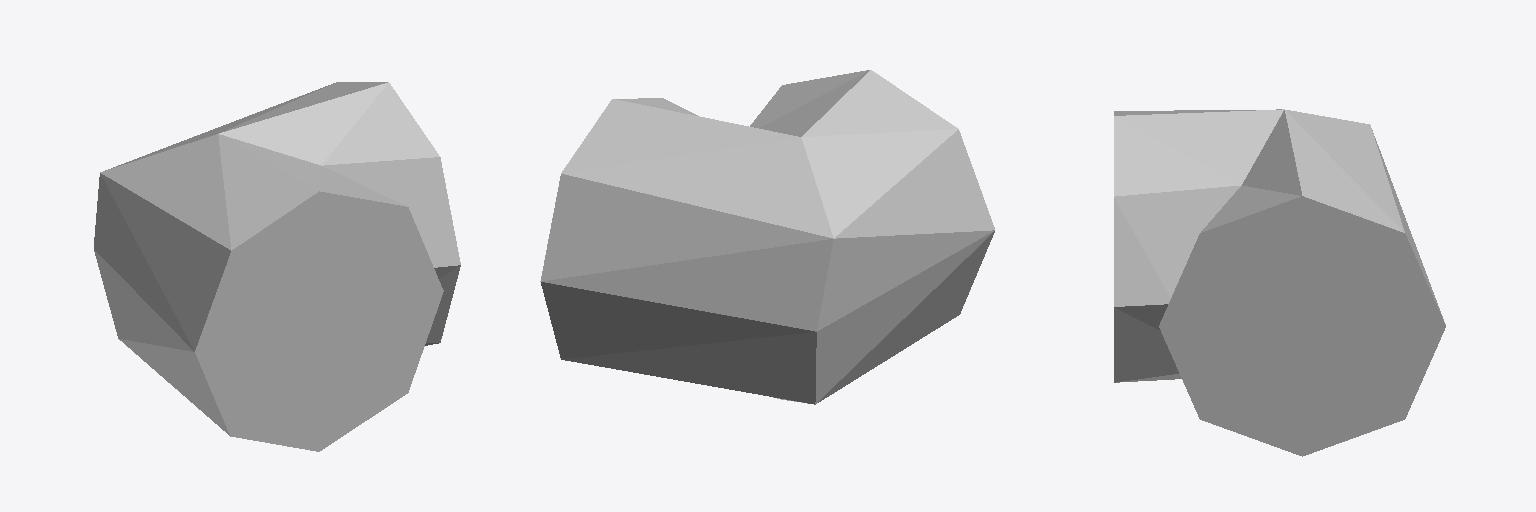
File: corner.obj
The picture shows the model from 3 angles: view 1: azimuth 30°, elevation 25°; view 2: azimuth 150°, elevation 25°; view 3: azimuth 270°, elevation 25°; orthographic projection.
Parts seen in each view (by area): view 1: Corner_Cube.006; view 2: Corner_Cube.006; view 3: Corner_Cube.006.
Boxes of the visible parts, x1,y1,x2,y2 form: Corner_Cube.006: [94, 82, 460, 451]; Corner_Cube.006: [540, 70, 994, 404]; Corner_Cube.006: [1114, 109, 1445, 456].
Bounding box in the file's own units: 1.76 × 1.52 × 1.76.